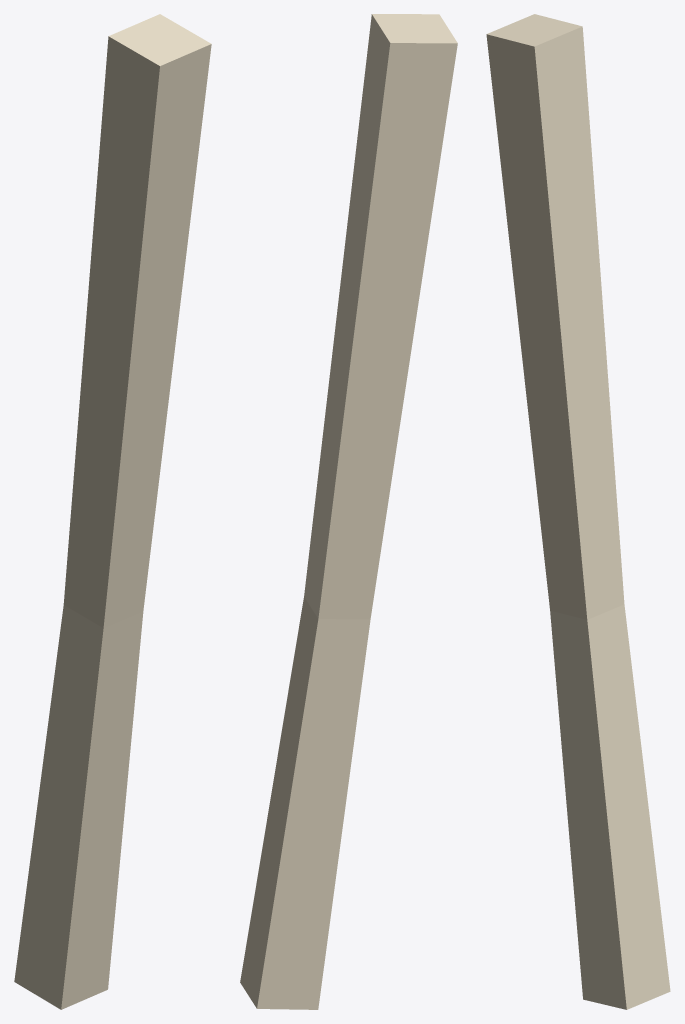
The model's file is DronePylon.fbx.
The picture shows the model from 3 angles, left to right: view 1: azimuth 90°, elevation 25°; view 2: azimuth 150°, elevation 25°; view 3: azimuth 270°, elevation 25°; orthographic projection. The views are drawn at different scales.
Visible parts, largest first — view 1: Body.004; view 2: Body.004; view 3: Body.004.
Boxes of the visible parts, x1,y1,x2,y2 form: Body.004: (14, 14, 211, 1009); Body.004: (240, 14, 457, 1009); Body.004: (486, 14, 670, 1009).
Size of the model in its own units: 0.433 by 2.34 by 0.4191.
